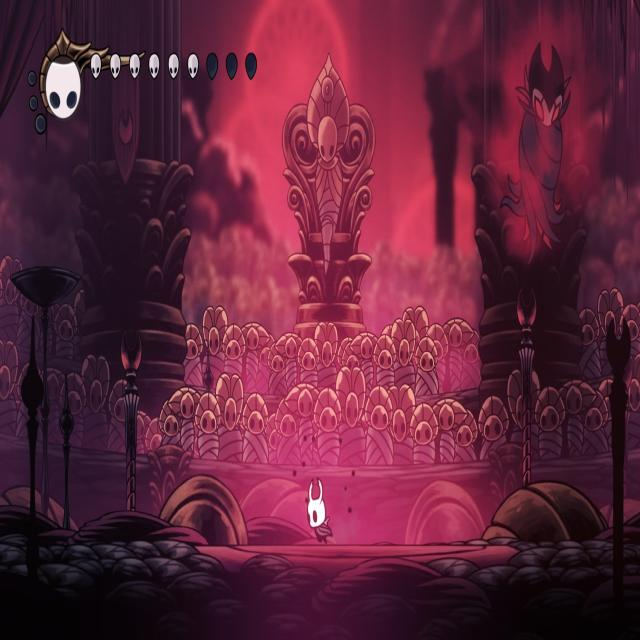Dive Dash: (499, 35, 574, 264)
Player: (304, 472, 334, 546)
